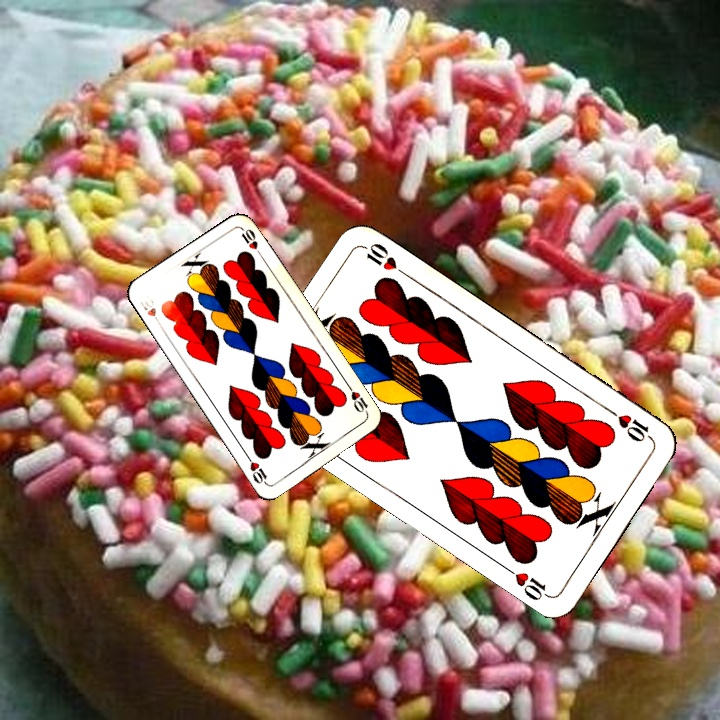H10: (603, 404, 656, 445), (136, 293, 164, 329), (344, 382, 371, 418)
